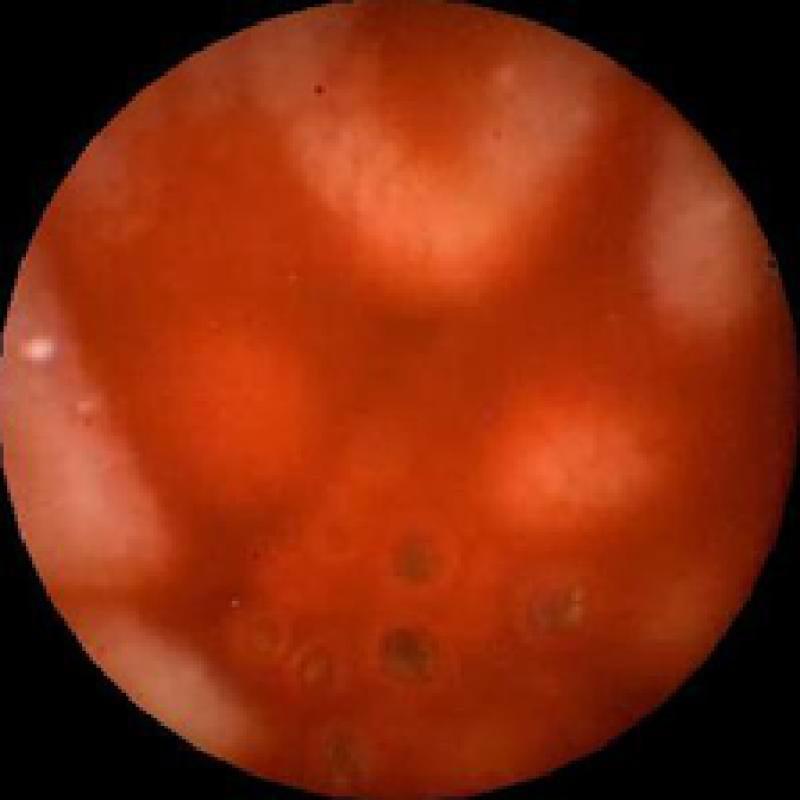bleeding: (142, 32, 658, 781)
